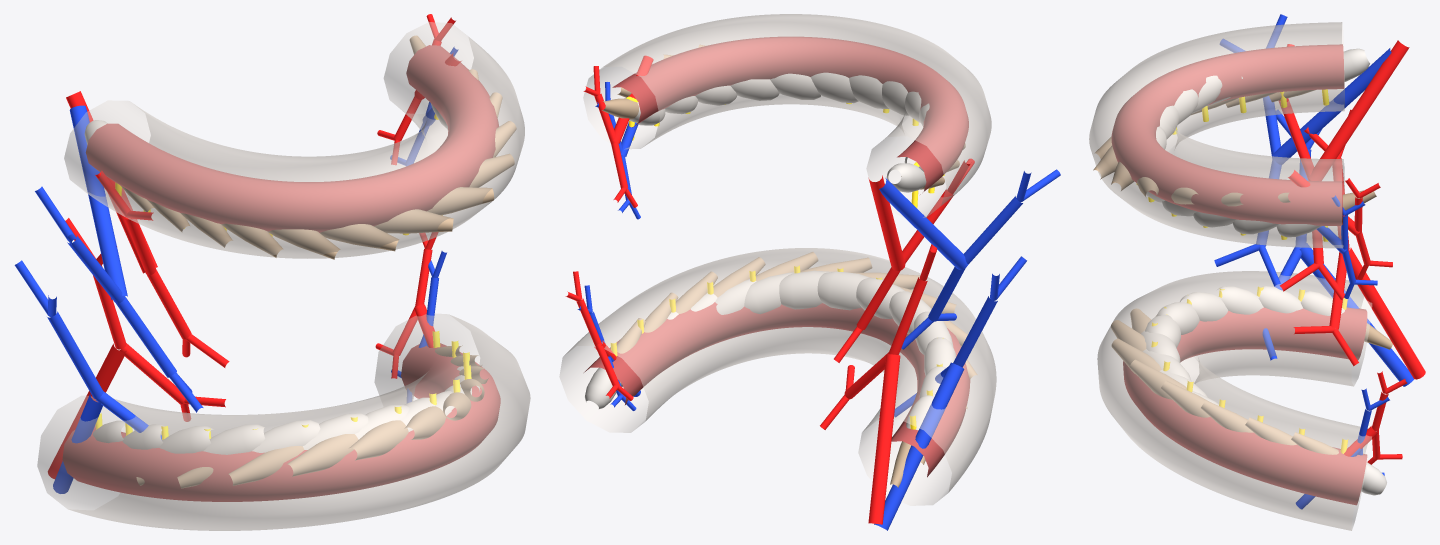
The model's file is full_mouth_anatomy_color.glb.
3 views of the same model, side by side, from view 1: azimuth 30°, elevation 25°; view 2: azimuth 150°, elevation 25°; view 3: azimuth 270°, elevation 25° (orthographic). The views are drawn at different scales.
Parts seen in each view (by area): view 1: MandibleBone, MaxillaBone, Gingiva (×2), Root (×11), Crown (×6), Vein_1 (×4), Vein_0 (×2), Artery_1 (×4), Artery_0 (×2); view 2: MandibleBone, MaxillaBone, Gingiva (×2), Crown (×16), Vein_0 (×2), Root (×6), Artery_0 (×2), Vein_1 (×3), Artery_1 (×3); view 3: MandibleBone, MaxillaBone, Gingiva (×2), Crown (×16), Root (×9), Artery_0 (×2), Vein_0 (×2), Artery_1 (×2), Vein_1 (×2).
Boxes of the visible parts, box(x1,y1,x2,y2) form: MandibleBone: box(37, 313, 530, 530); MaxillaBone: box(64, 22, 524, 258); Gingiva (×2): box(62, 45, 500, 501); Root (×11): box(180, 154, 514, 485); Crown (×6): box(122, 405, 409, 454); Vein_1 (×4): box(47, 235, 176, 439); Vein_0 (×2): box(53, 105, 127, 493); Artery_1 (×4): box(93, 218, 191, 404); Artery_0 (×2): box(48, 91, 157, 478); MandibleBone: box(559, 248, 996, 505); MaxillaBone: box(583, 14, 991, 217); Gingiva (×2): box(584, 36, 970, 477); Crown (×16): box(585, 72, 955, 408); Vein_0 (×2): box(874, 178, 968, 530); Root (×6): box(602, 98, 872, 332); Artery_0 (×2): box(868, 175, 905, 524); Vein_1 (×3): box(928, 196, 1022, 367); Artery_1 (×3): box(856, 189, 953, 354); MandibleBone: box(1097, 271, 1371, 530); MaxillaBone: box(1089, 22, 1344, 248); Gingiva (×2): box(1111, 44, 1367, 505); Crown (×16): box(1141, 48, 1386, 495); Root (×9): box(1093, 146, 1392, 454); Artery_0 (×2): box(1308, 40, 1425, 379); Vein_0 (×2): box(1272, 48, 1413, 386); Artery_1 (×2): box(1279, 98, 1348, 329); Vein_1 (×2): box(1263, 96, 1301, 290).
Bounding box in the file's own units: 0.2644 × 0.2153 × 0.1806.
